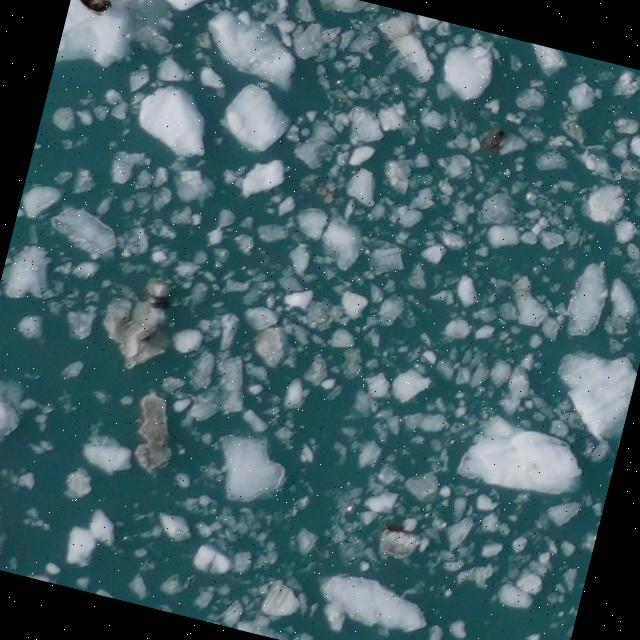seal: (79, 0, 111, 14)
